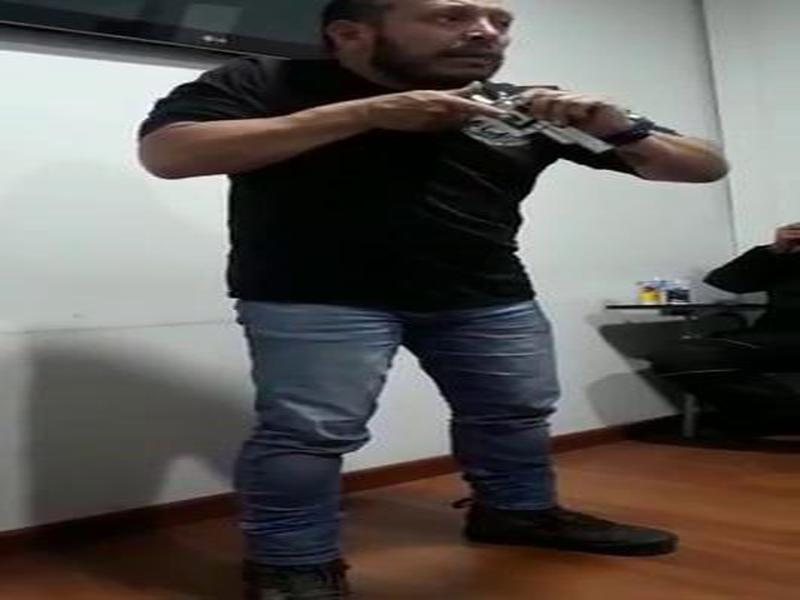Revolver: (430, 72, 635, 185)
